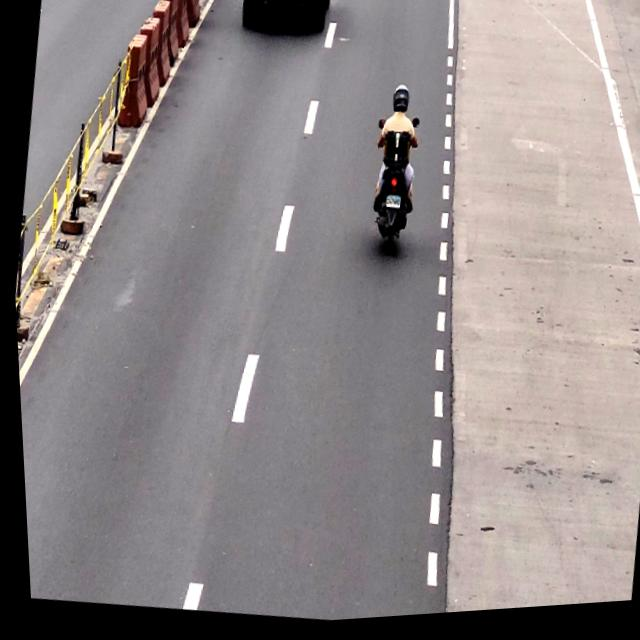Car: (236, 0, 334, 41)
License-Plate: (382, 197, 401, 219)
Motorcycle: (358, 88, 428, 262)
